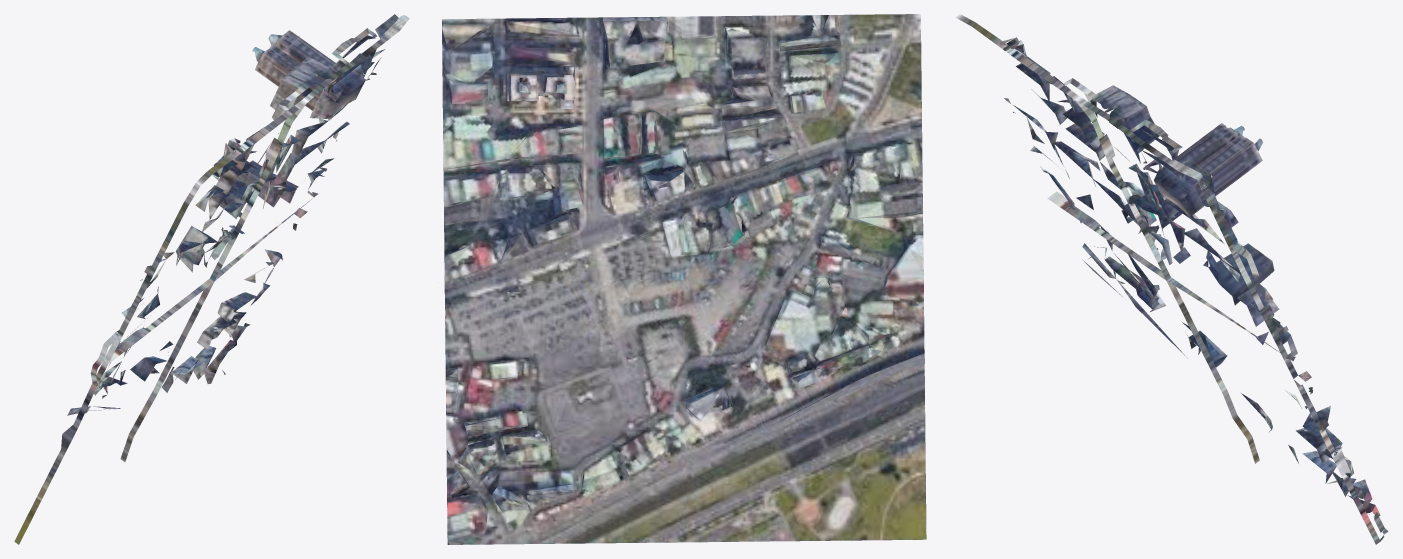
The picture shows the model from 3 angles, left to right: view 1: azimuth 30°, elevation 25°; view 2: azimuth 150°, elevation 25°; view 3: azimuth 270°, elevation 25°; orthographic projection. The views are drawn at different scales.
Bounding box in the file's own units: 609 × 568 × 527.
Materials: 2 (2 with a texture image).
